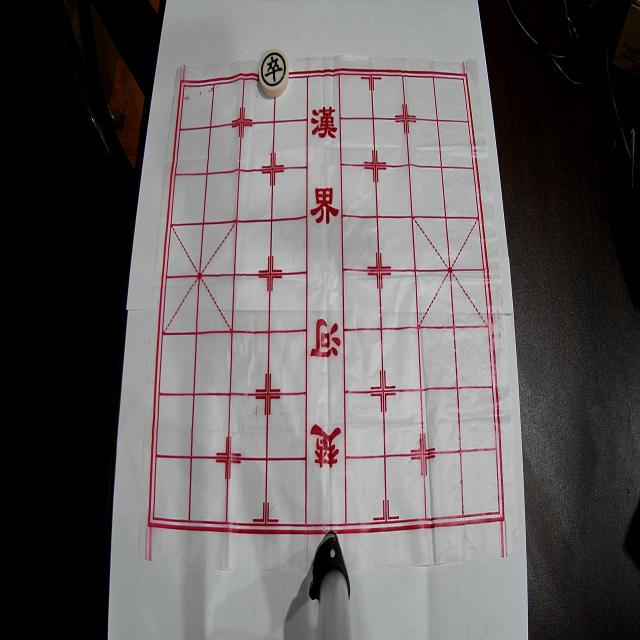black-soldier: (259, 48, 289, 98)
